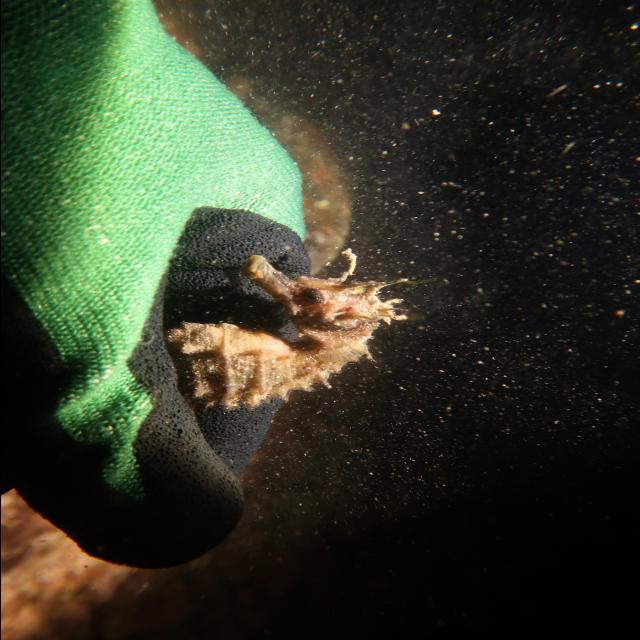Guttu: (234, 247, 388, 352)
